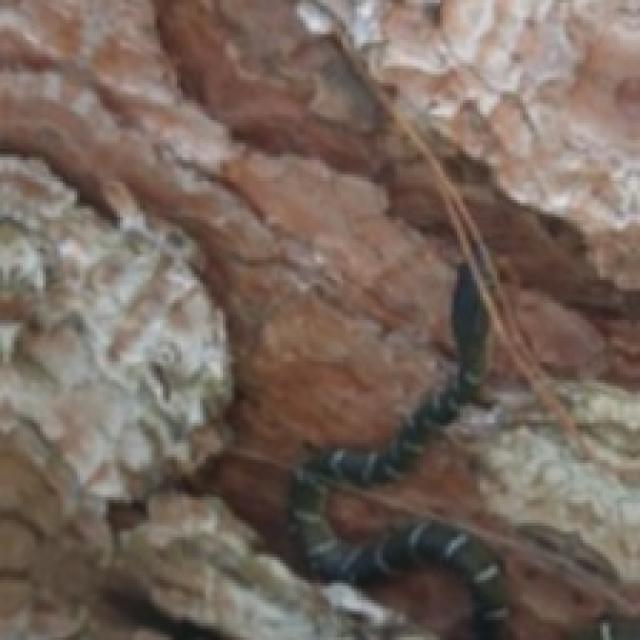reddish rat snake: (291, 264, 504, 639)
